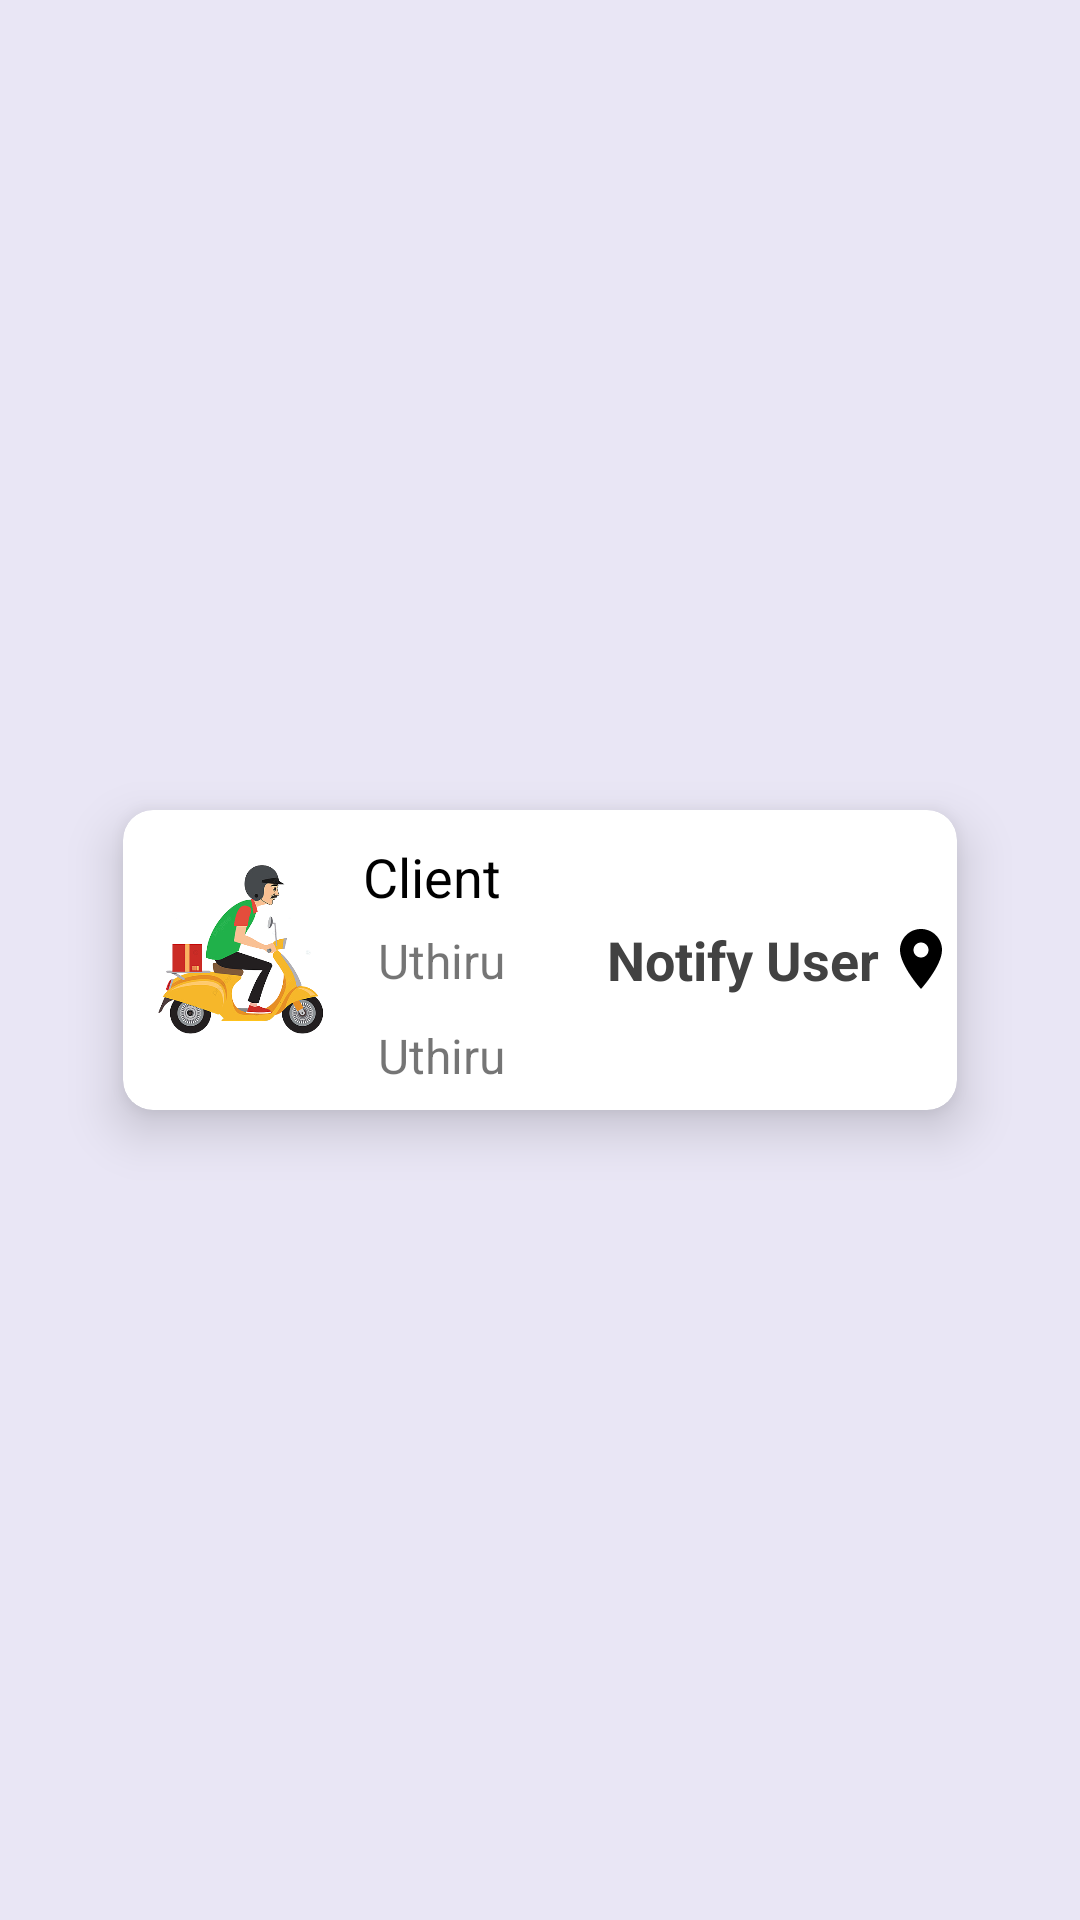

Icon click points for this 1080 × 1920 phone screenshot, format (x=x, y=y):
rider: (x=235, y=960)
